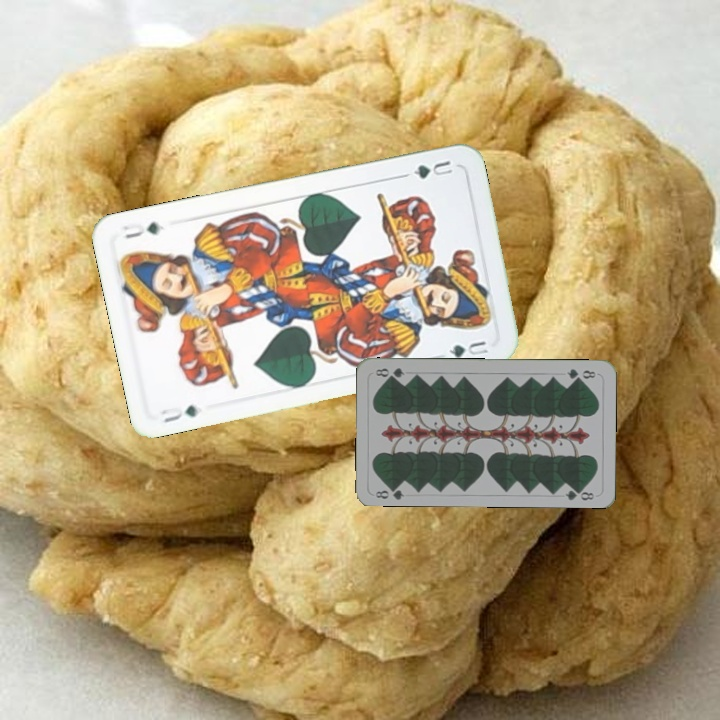G8: (372, 482, 406, 501), (563, 364, 598, 382)
GU: (409, 156, 455, 182), (157, 401, 201, 426)
